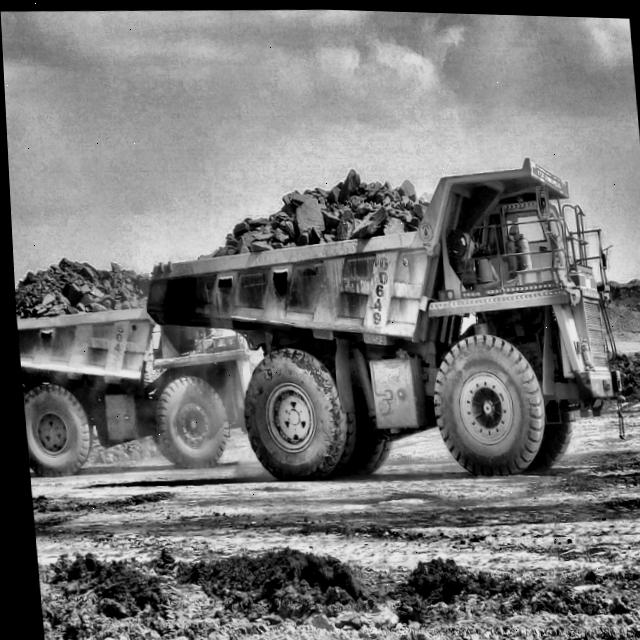dump_truck: (13, 159, 610, 483)
